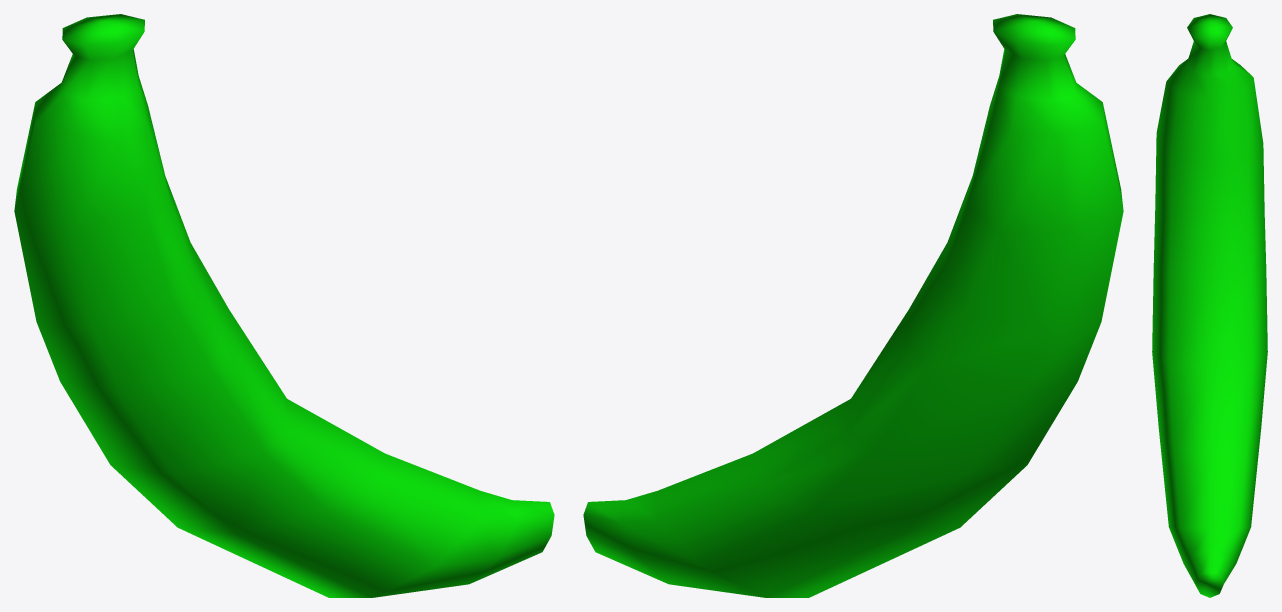
Rendered from Fruit01.fbx.
3 views of the same model, side by side, from view 1: azimuth 30°, elevation 25°; view 2: azimuth 150°, elevation 25°; view 3: azimuth 270°, elevation 25° (orthographic). The views are drawn at different scales.
Parts seen in each view (by area): view 1: pCylinder11; view 2: pCylinder11; view 3: pCylinder11.
Part boxes in pixels (box(x1,y1,x2,y2)): pCylinder11: box(14, 14, 554, 597); pCylinder11: box(583, 14, 1123, 597); pCylinder11: box(1152, 14, 1267, 597).
Size of the model in its own units: 0.2516 by 0.2912 by 0.0692.
